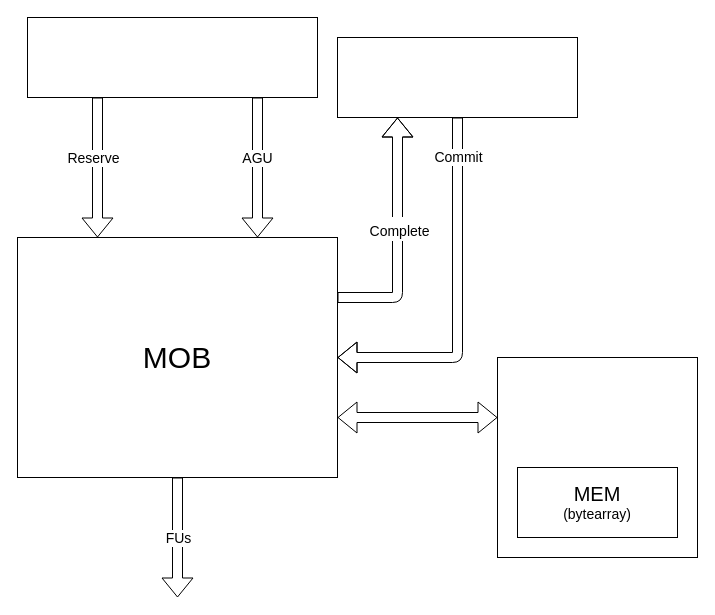
This 715x615 diagram has some shape labels left out. The centre of each missing label's shape, as x and y in pixels:
"DRIVER" goes at point 172,57.
"ROB" goes at point 457,77.
